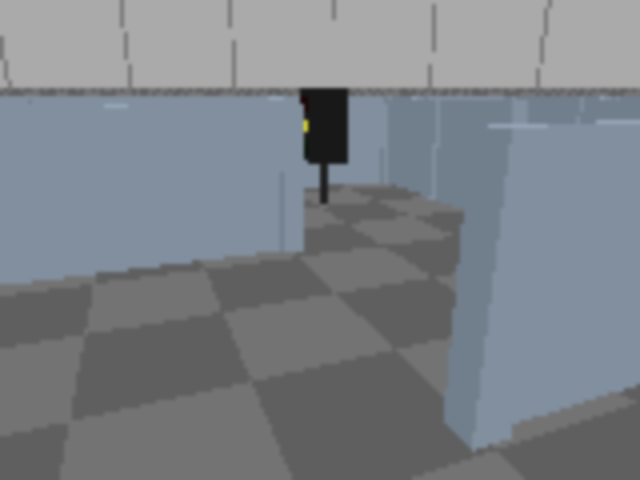traffic_light: (299, 82, 350, 211)
